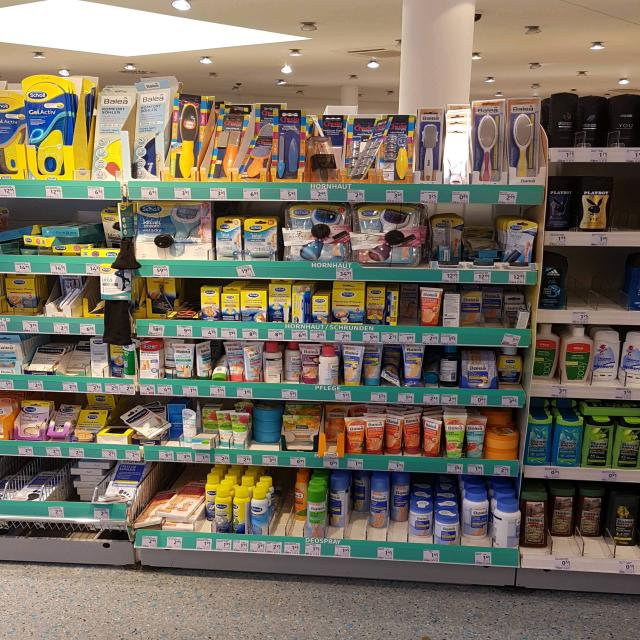void: (611, 163, 640, 248), (570, 247, 598, 322), (601, 247, 626, 323), (273, 468, 290, 554)
